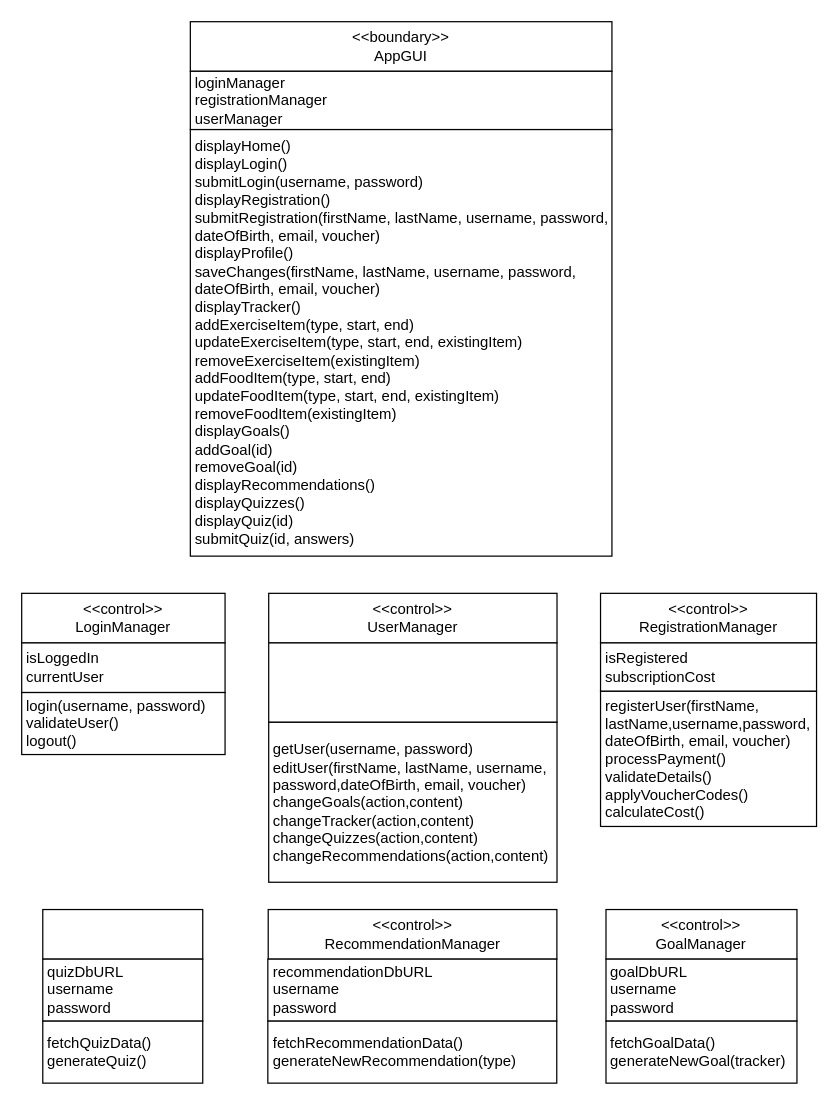
The diagram is 838 pixels wide and 1105 high, and some of its shapes have lost their labels. The centre of each missing label's shape, as x and y in pixels:
<<control>> QuizManager: [122,933]
currentUser dbURL username password: [412,682]
